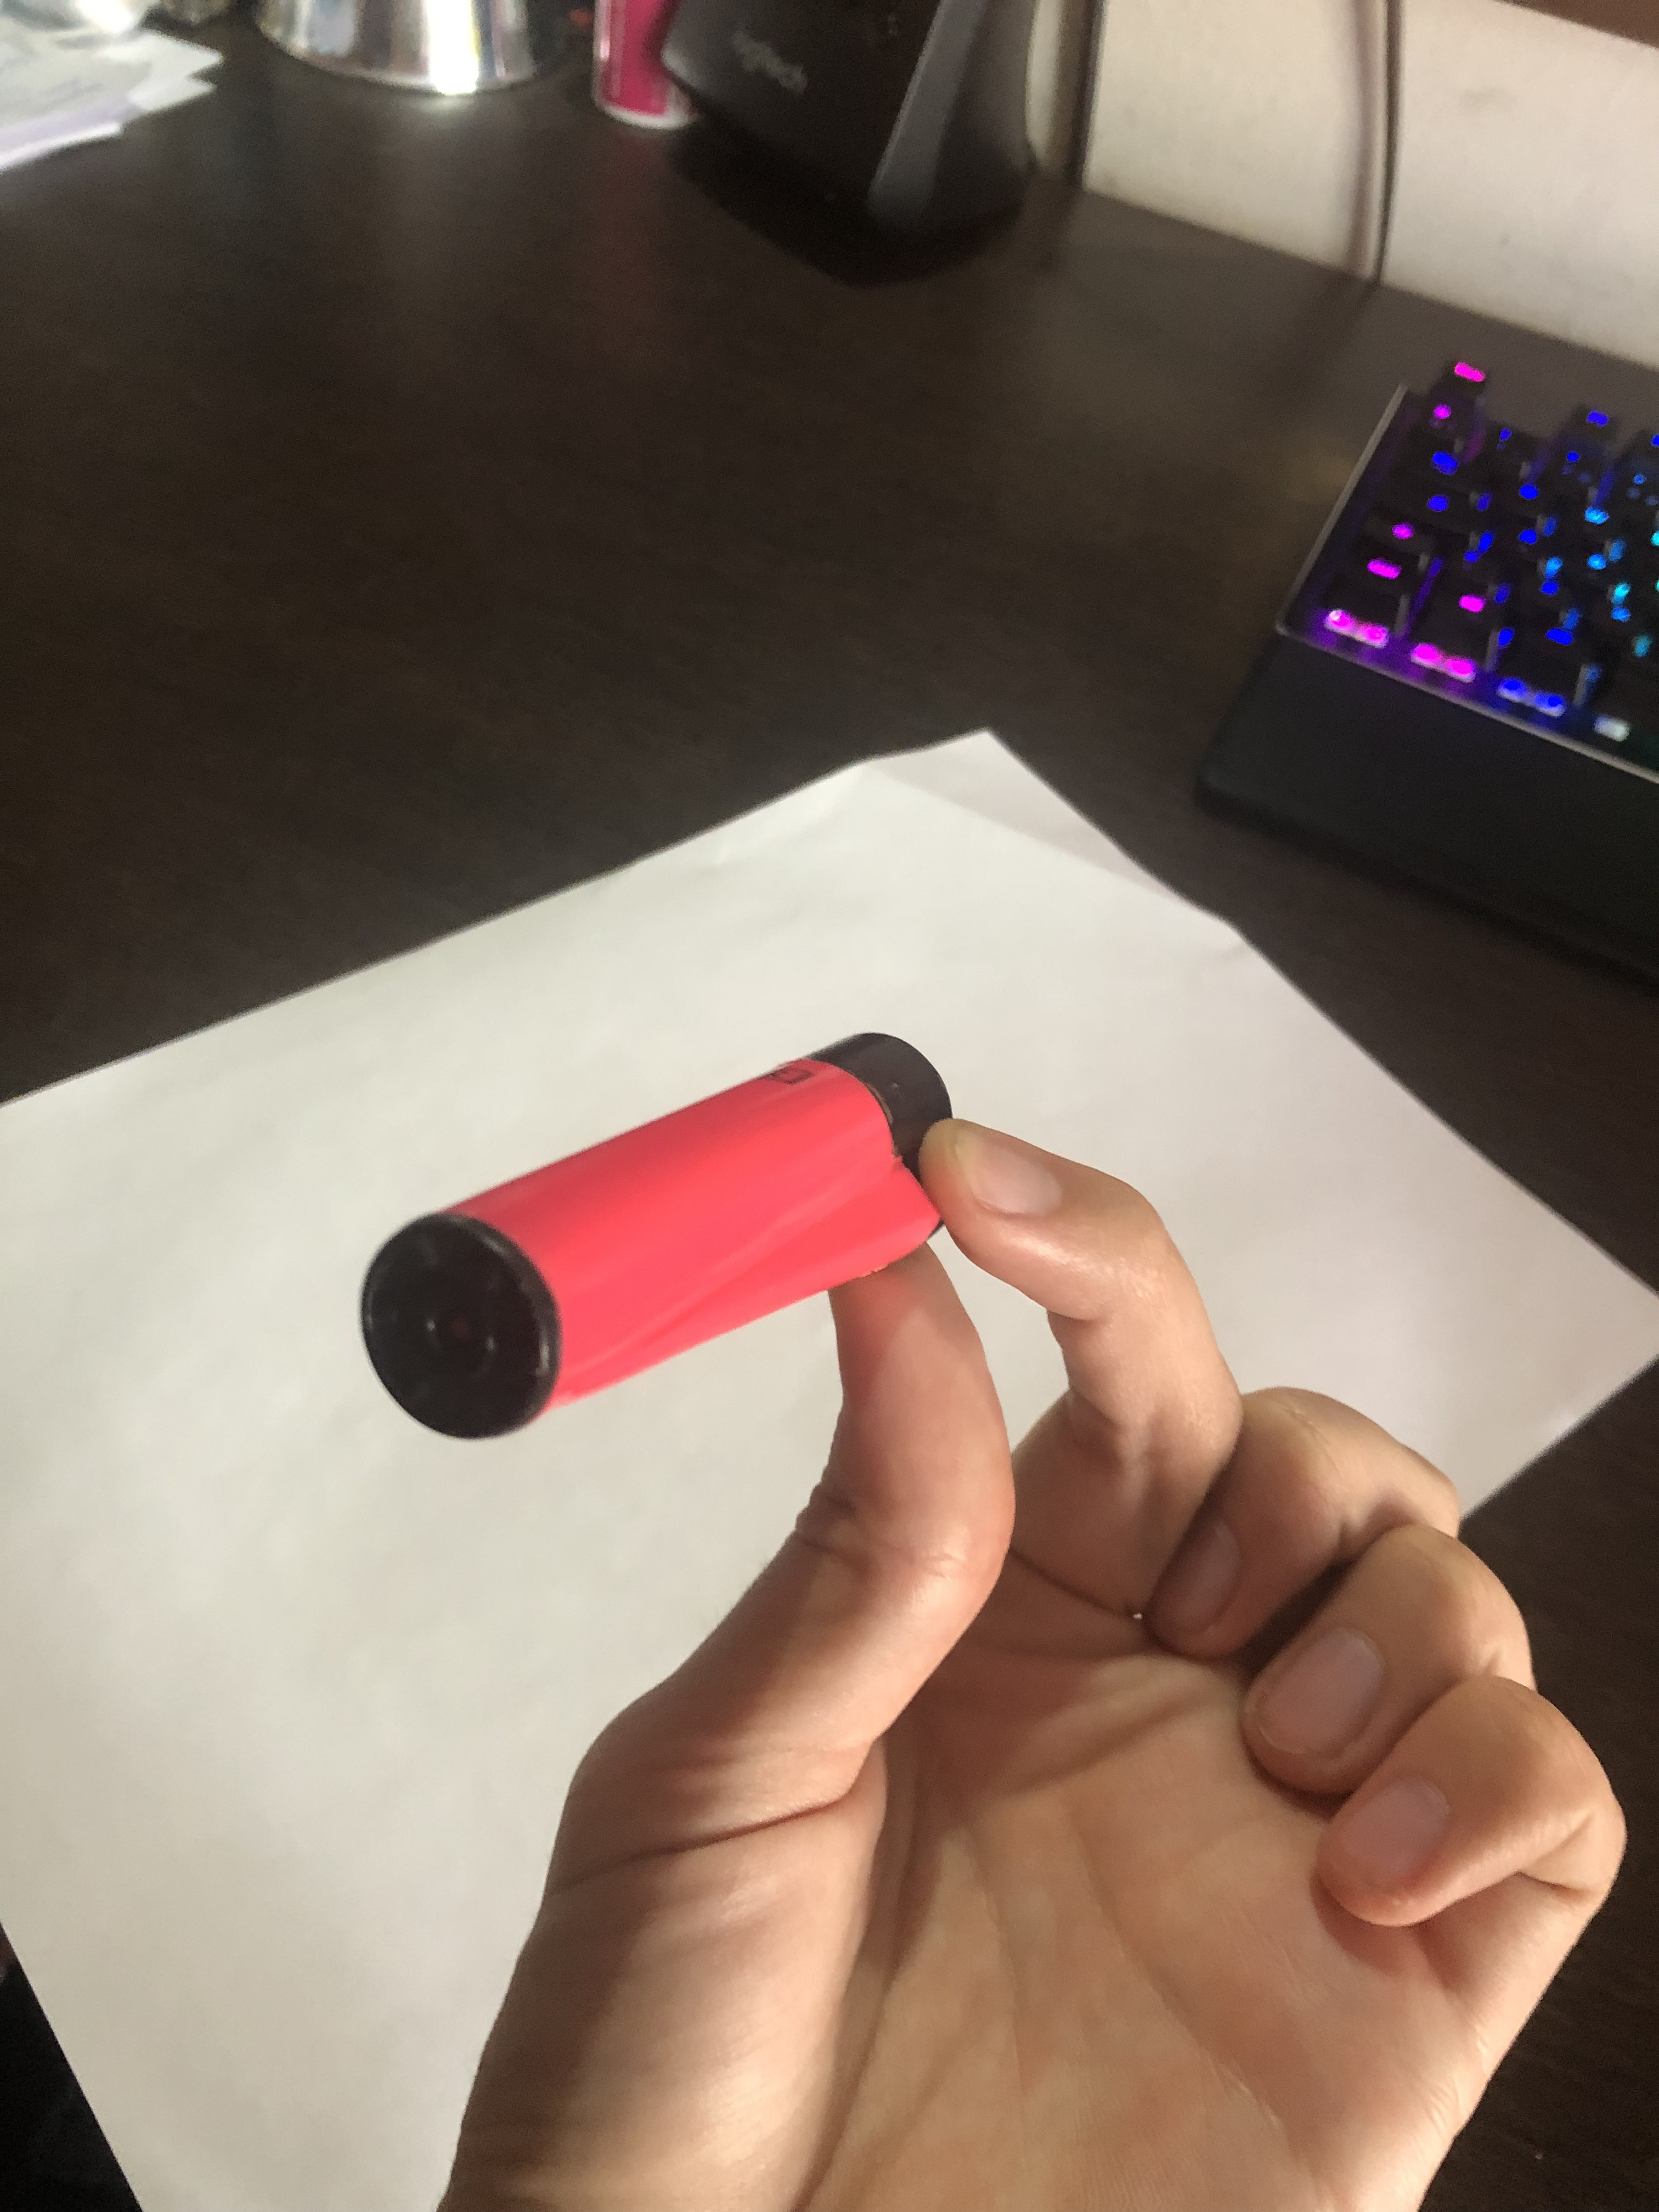Mechero: (338, 1007, 992, 1423)
